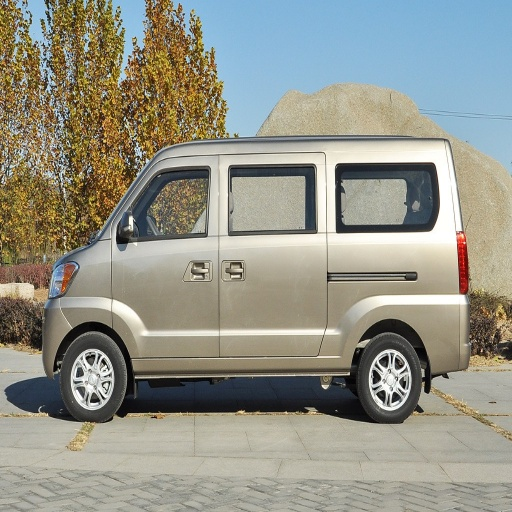back_left_door: (219, 157, 316, 315), (379, 165, 424, 214)
trunk: (321, 264, 463, 371)
